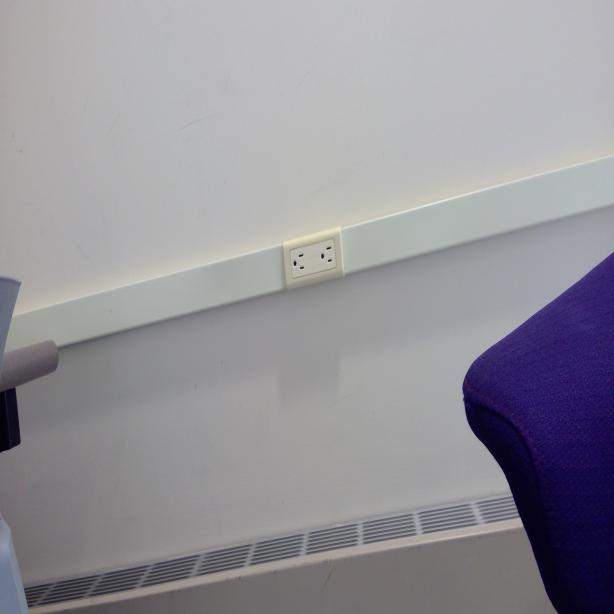typeb: (318, 242, 337, 270), (290, 248, 308, 274)
